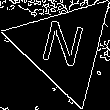N_S: (39, 18, 90, 76)
